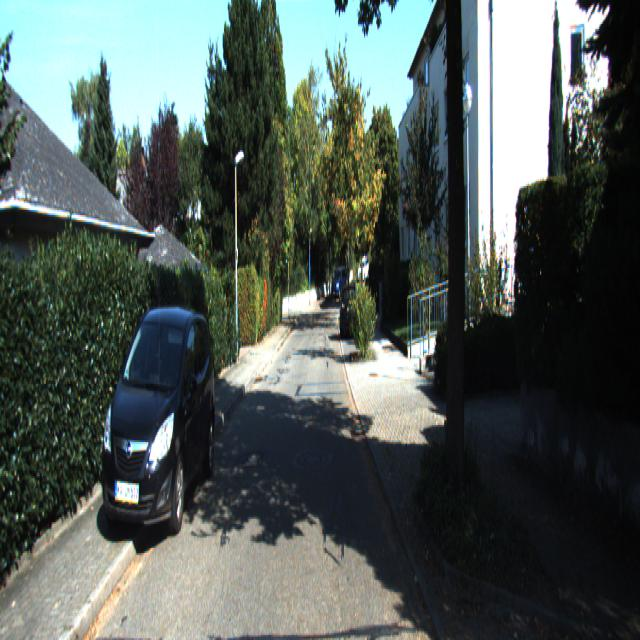Car: (97, 312, 217, 552), (340, 287, 358, 344)
